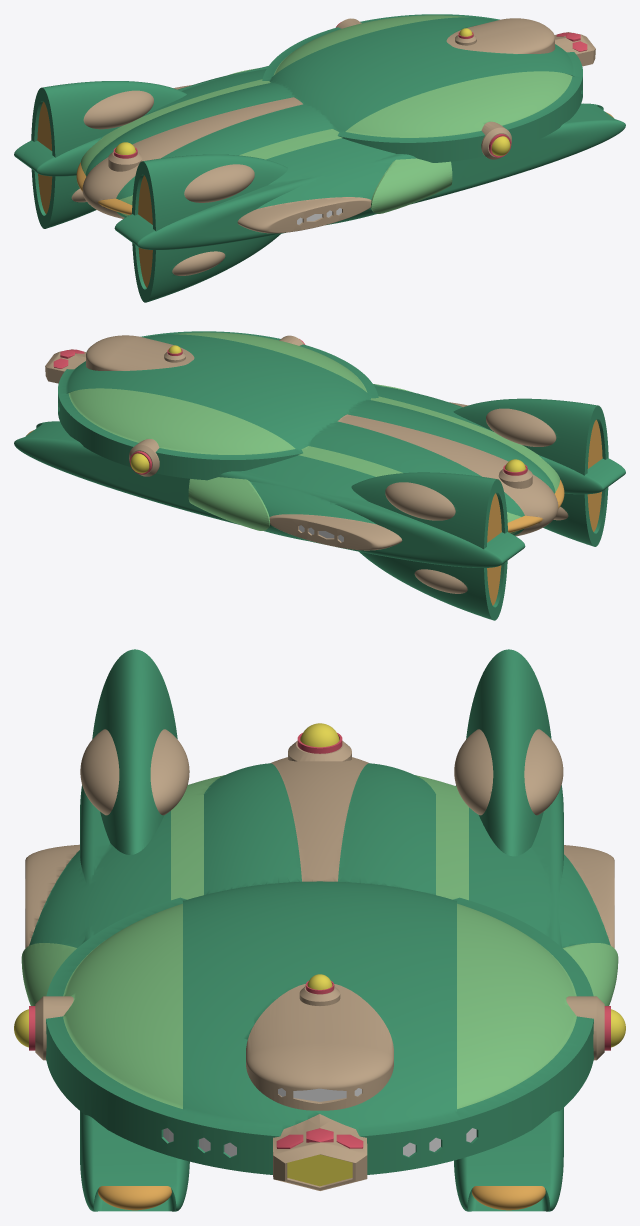
Rendered from kre-raptor.glb.
3 renders of one model, top to bottom at view 1: azimuth 30°, elevation 25°; view 2: azimuth 150°, elevation 25°; view 3: azimuth 270°, elevation 25°, orthographic. The views are drawn at different scales.
Parts seen in each view (by area): view 1: Raptor current hull - authored COLOR_0 regions; view 2: Raptor current hull - authored COLOR_0 regions; view 3: Raptor current hull - authored COLOR_0 regions.
Part boxes in pixels (left/top/right/bottom): Raptor current hull - authored COLOR_0 regions: left=14, top=14, right=625, bottom=302; Raptor current hull - authored COLOR_0 regions: left=14, top=331, right=625, bottom=620; Raptor current hull - authored COLOR_0 regions: left=14, top=649, right=625, bottom=1211.
Size of the model in its own units: 5.55 by 1.88 by 3.1.
